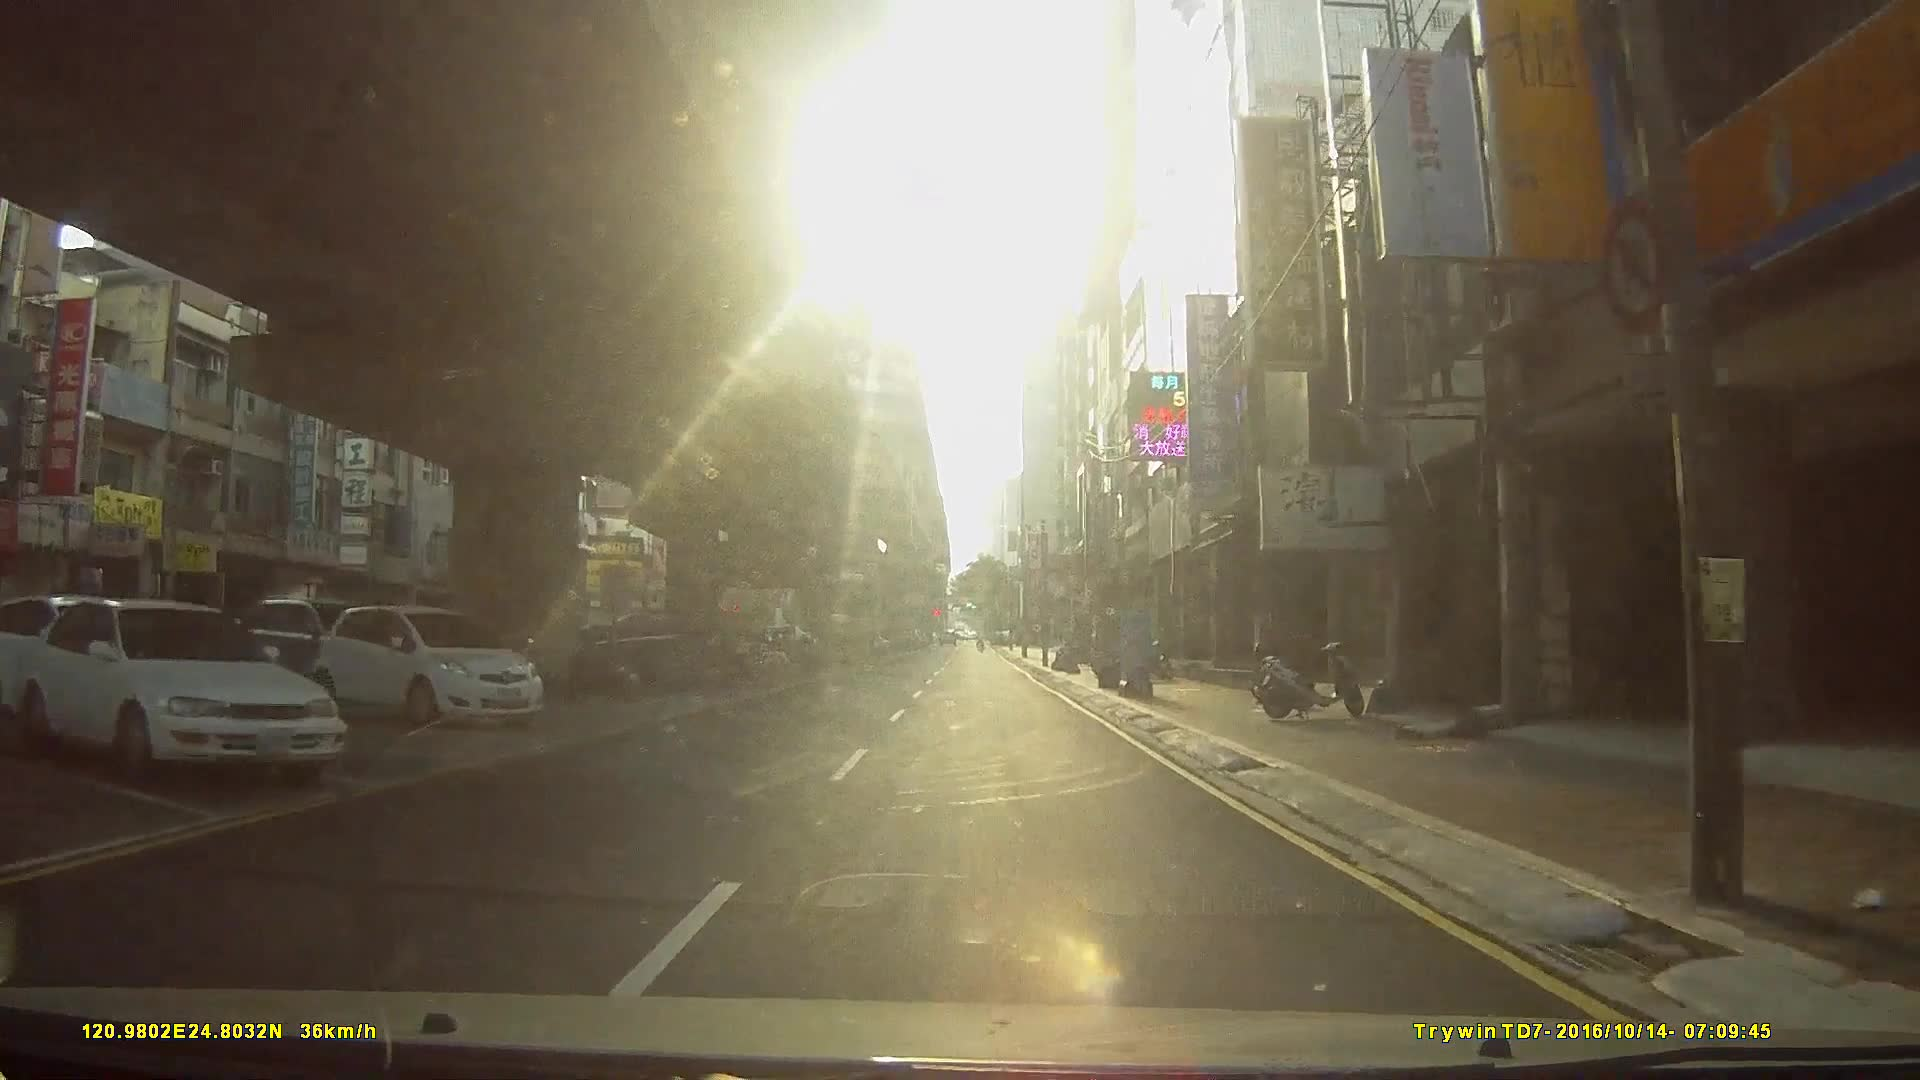vehicle: (12, 597, 345, 789), (313, 600, 546, 729), (235, 597, 375, 692)
